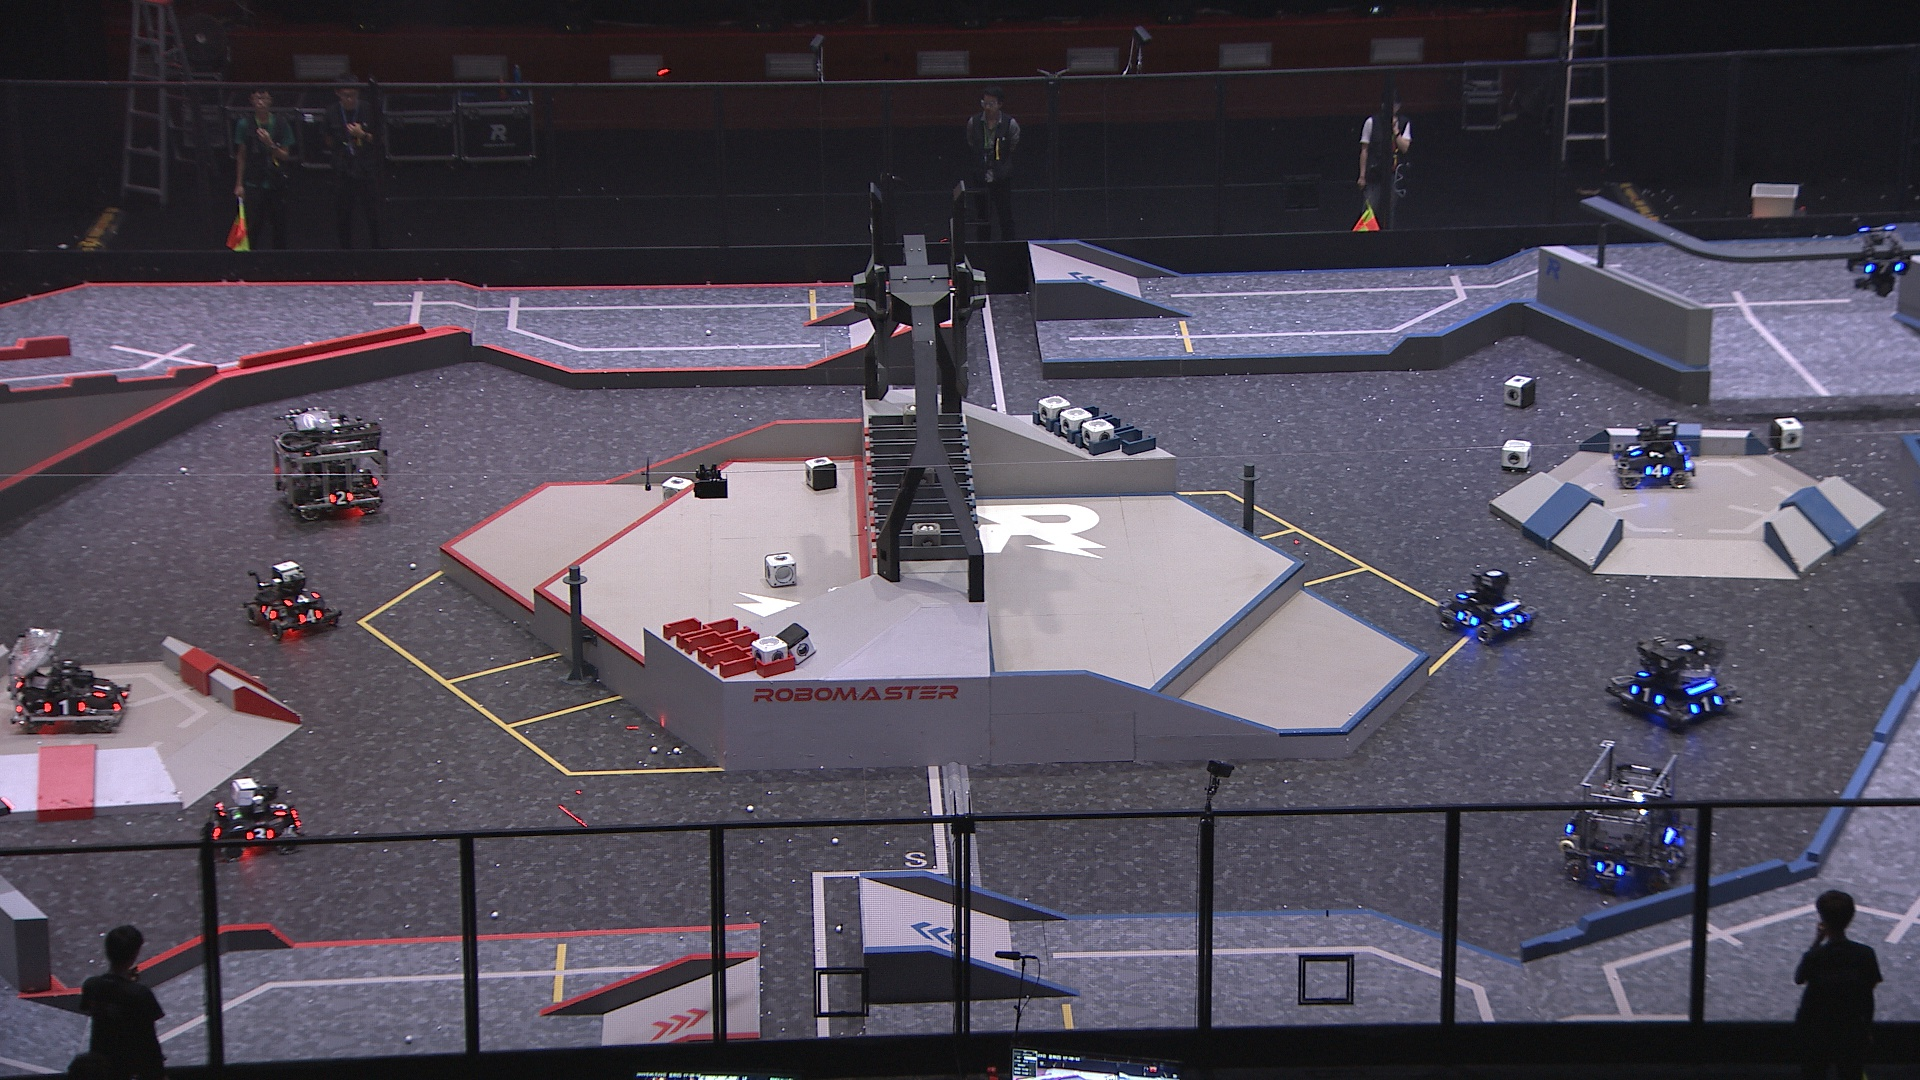armor: (1865, 258, 1908, 278), (1629, 684, 1665, 707), (44, 698, 87, 716), (1691, 694, 1726, 716), (284, 589, 320, 608), (1596, 858, 1625, 880), (328, 489, 357, 508), (91, 678, 115, 700), (258, 600, 281, 624), (1501, 611, 1524, 632), (299, 607, 324, 626), (269, 799, 291, 820), (1456, 609, 1481, 628), (243, 825, 277, 839), (1644, 462, 1671, 479), (1456, 588, 1480, 603), (113, 692, 129, 713), (1627, 443, 1643, 458)
car: (1556, 742, 1695, 891), (268, 406, 389, 524), (7, 624, 133, 733), (1604, 632, 1737, 732), (244, 560, 345, 644), (1432, 568, 1542, 645), (204, 778, 305, 858), (1610, 417, 1695, 491)
watcher: (1846, 225, 1912, 301)
